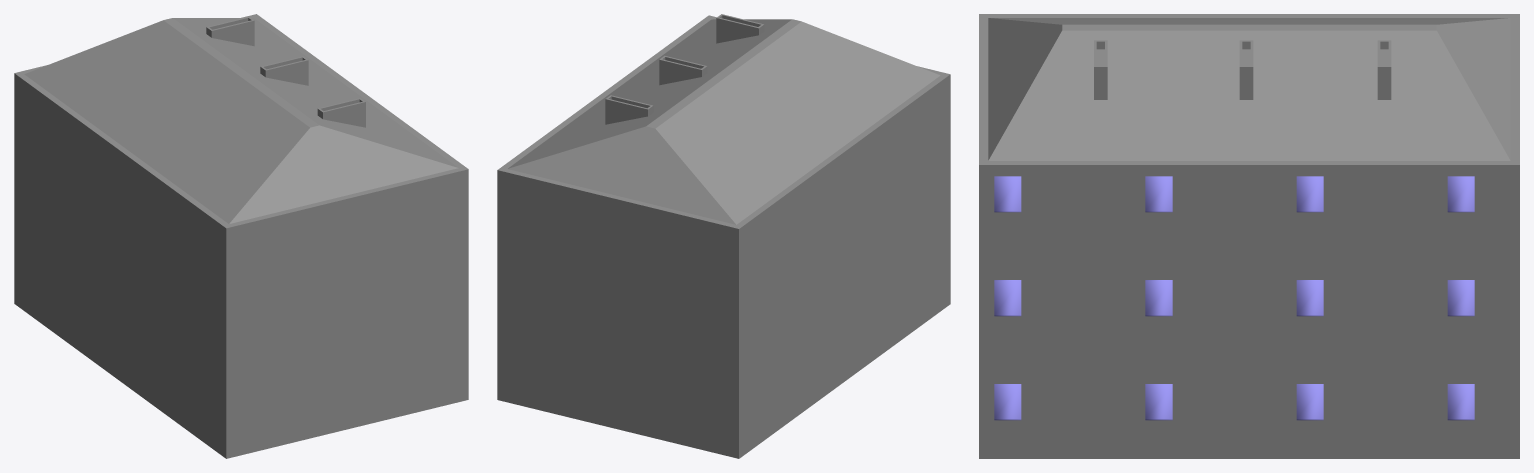
Rendered from house_test.FBX.
3 renders of one model, left to right at view 1: azimuth 30°, elevation 25°; view 2: azimuth 150°, elevation 25°; view 3: azimuth 270°, elevation 25°, orthographic. The views are drawn at different scales.
Visible parts, largest first — view 1: h_23, Object015, Object016; view 2: h_23, Object015, Object016; view 3: h_23, Object015, Object016.
Part boxes in pixels (x1,y1,x2,y2): h_23: (14, 73, 468, 458); Object015: (14, 14, 468, 228); Object016: (206, 16, 365, 127); h_23: (497, 74, 950, 458); Object015: (498, 15, 949, 228); Object016: (605, 14, 764, 124); h_23: (979, 165, 1519, 458); Object015: (979, 14, 1519, 164); Object016: (1094, 40, 1391, 99).
Bounding box in the file's own units: 14.05 × 15.4 × 21.21.
